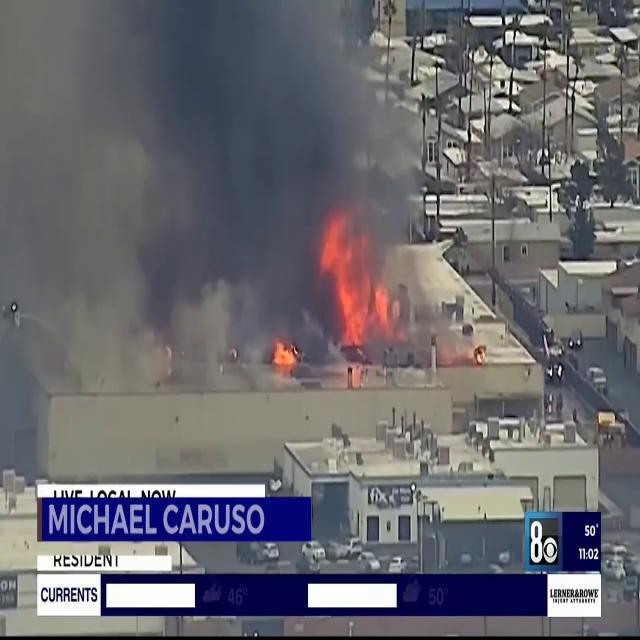Fire: (319, 210, 395, 370), (268, 330, 301, 376)
Smoke: (1, 1, 438, 359)
